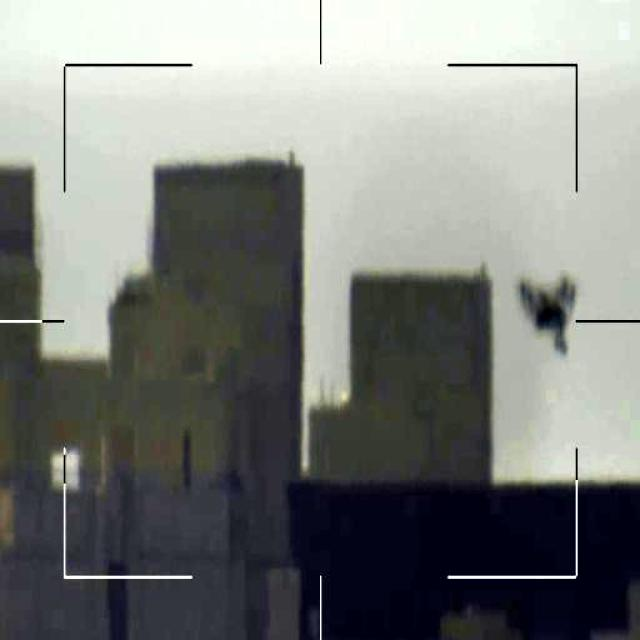bird: (516, 270, 581, 356)
